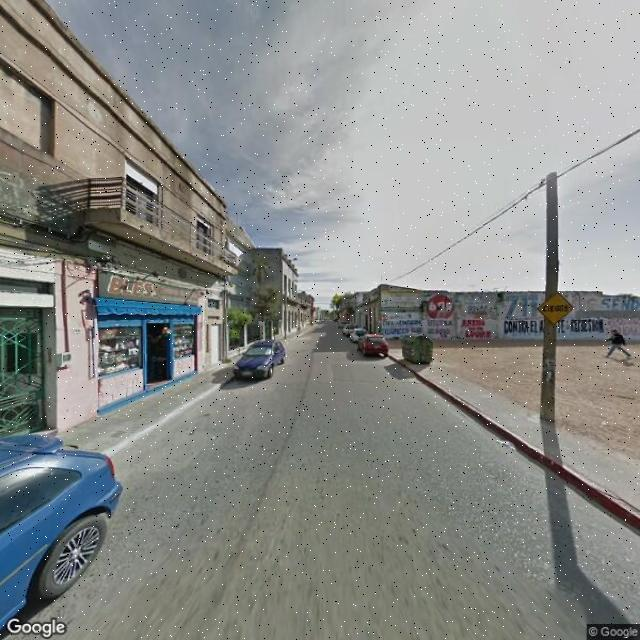garbage container: (396, 330, 444, 375)
